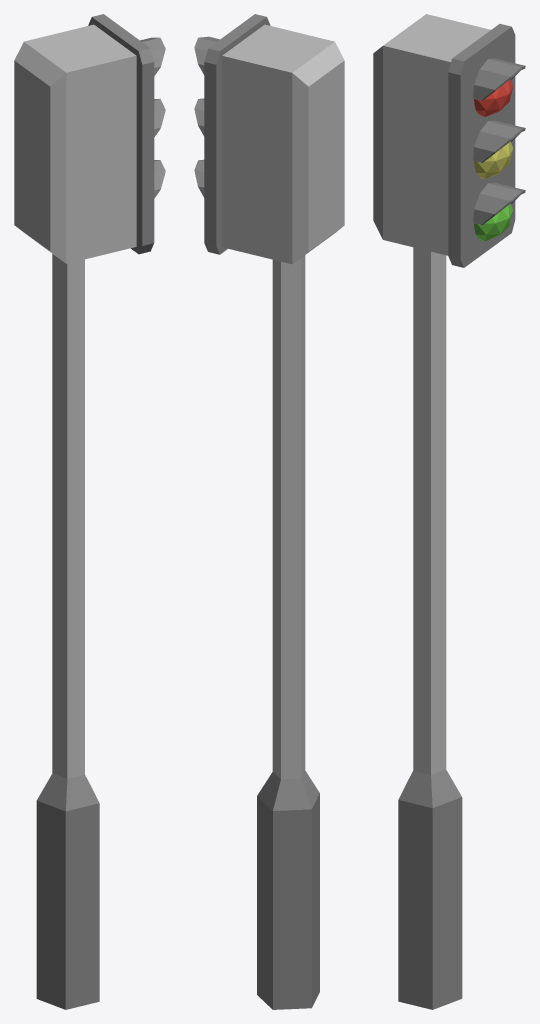
File: TrafficLight.glb
3 renders of one model, left to right at view 1: azimuth 30°, elevation 25°; view 2: azimuth 150°, elevation 25°; view 3: azimuth 330°, elevation 25°, orthographic.
Parts seen in each view (by area): view 1: TrafficLight; view 2: TrafficLight; view 3: TrafficLight.
Part boxes in pixels (<box>): TrafficLight: <box>14,14,165,1009</box>; TrafficLight: <box>194,14,344,1009</box>; TrafficLight: <box>373,14,525,1009</box>.
Bounding box in the file's own units: 0.123 × 0.8709 × 0.0896.
